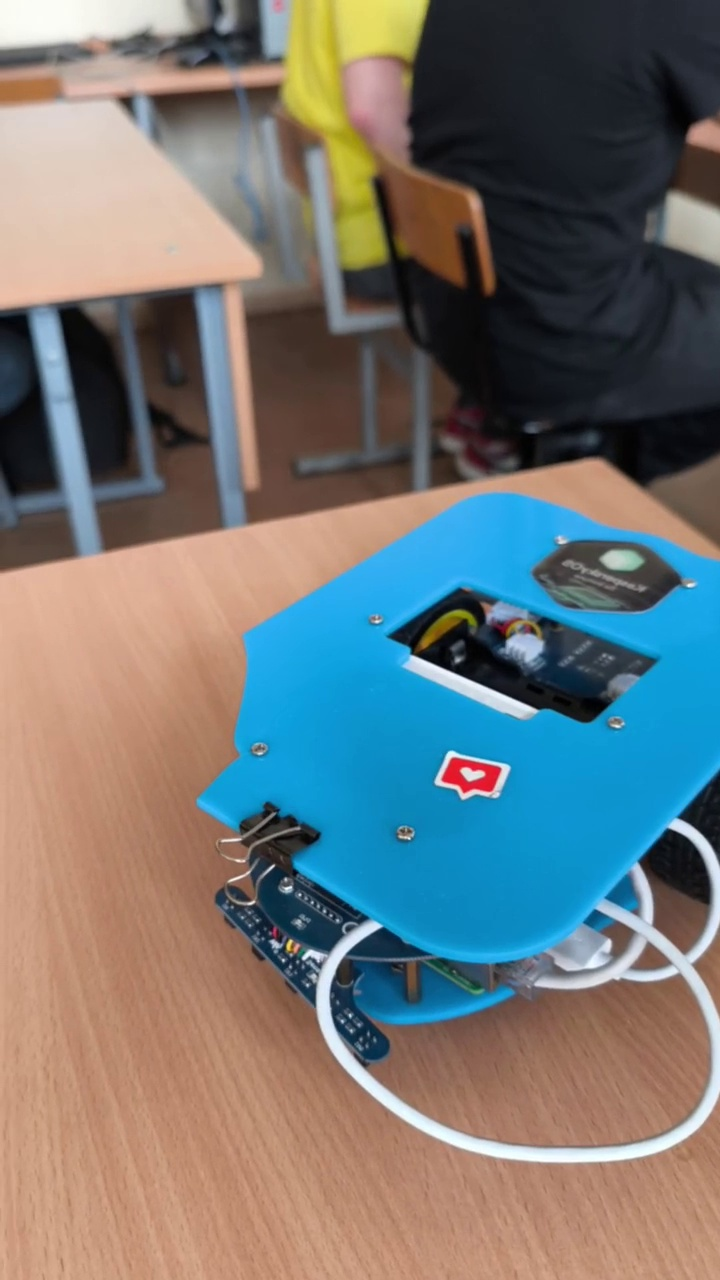robot: (192, 488, 720, 1168)
